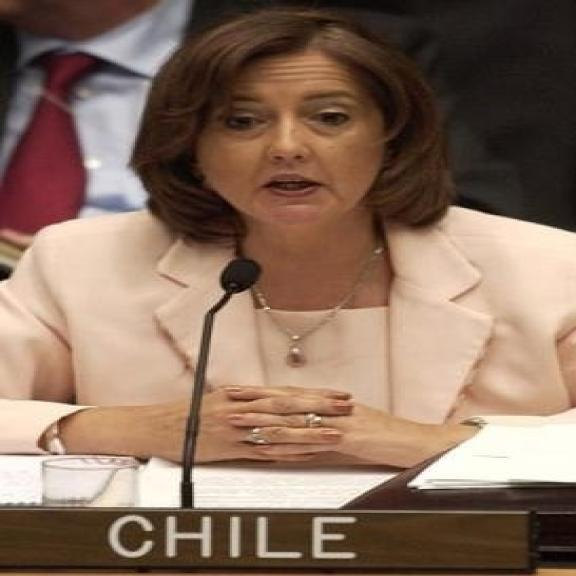face: (140, 20, 416, 226)
